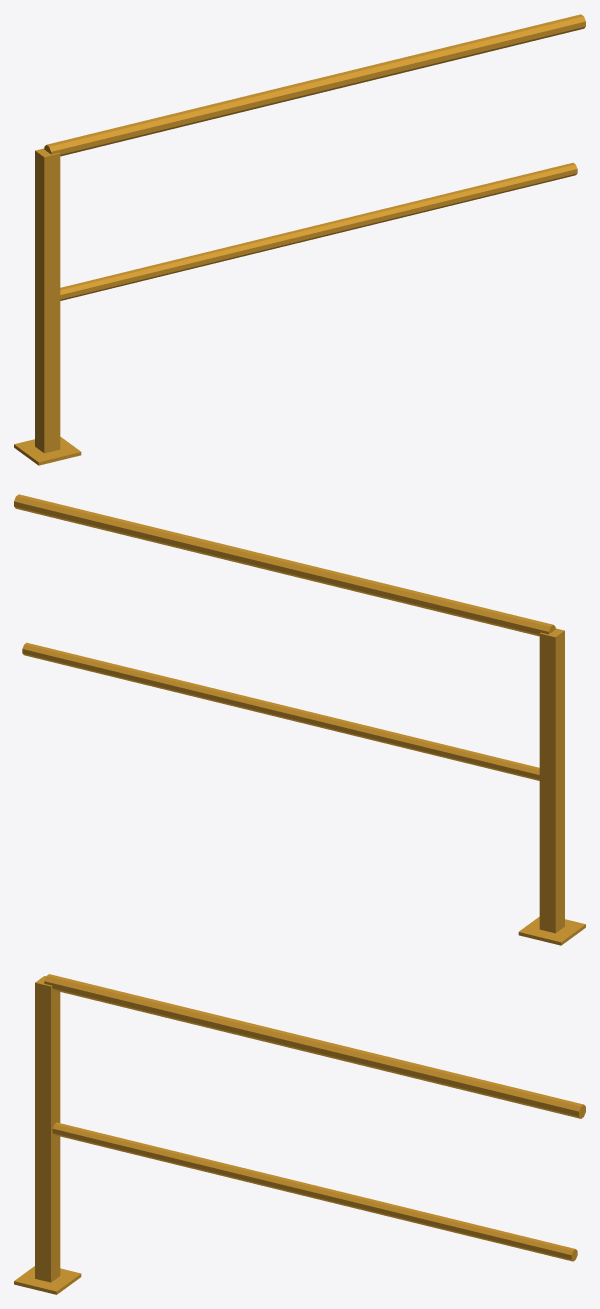
File: rail_section.gltf
The picture shows the model from 3 angles, top to bottom: view 1: azimuth 30°, elevation 25°; view 2: azimuth 150°, elevation 25°; view 3: azimuth 330°, elevation 25°; orthographic projection.
Parts seen in each view (by area): view 1: rail_section; view 2: rail_section; view 3: rail_section.
Boxes of the visible parts, left/top/right/bottom form: rail_section: left=14, top=14, right=585, bottom=465; rail_section: left=14, top=494, right=585, bottom=945; rail_section: left=14, top=974, right=585, bottom=1294.
Size of the model in its own units: 2.08 by 1.09 by 0.16.
